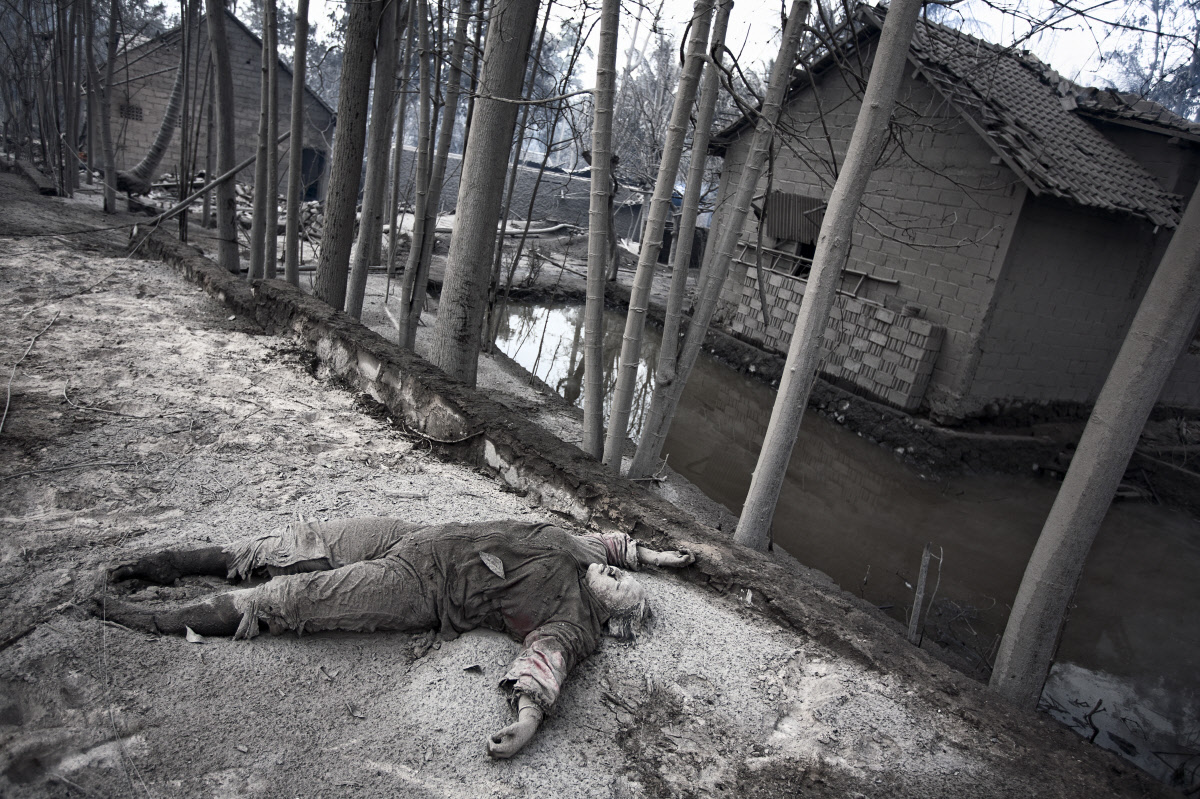Korban: (85, 516, 696, 760)
